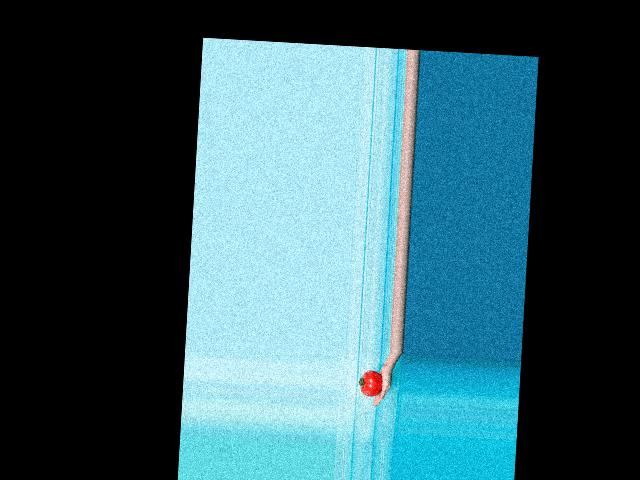tomato: (358, 370, 383, 397)
